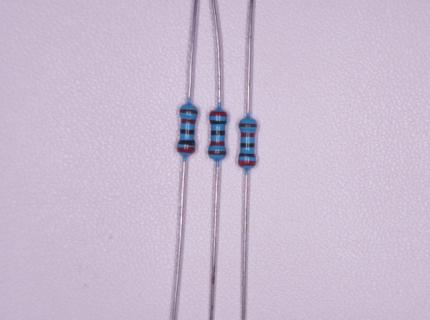Black band: (180, 129, 194, 135), (178, 140, 194, 145), (211, 130, 225, 135), (210, 120, 227, 124), (239, 153, 255, 157), (241, 143, 255, 147)
Brown band: (180, 109, 198, 114), (239, 123, 257, 127), (209, 151, 226, 155)
Red band: (239, 160, 256, 166), (178, 147, 195, 153), (209, 112, 227, 117), (181, 119, 196, 124), (210, 141, 225, 146), (241, 133, 255, 137)
